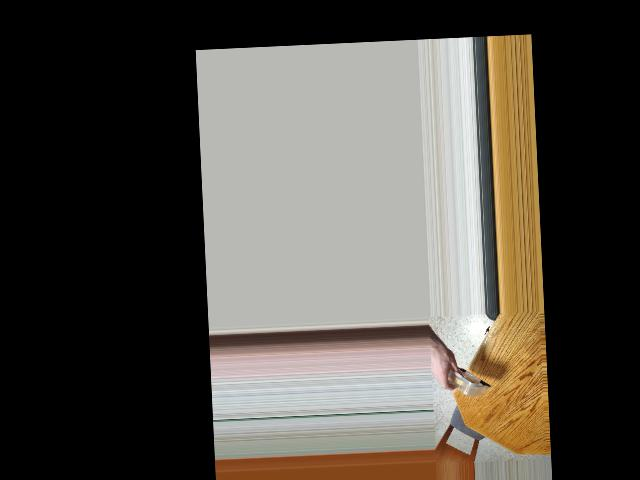cheese: (436, 350, 482, 409)
